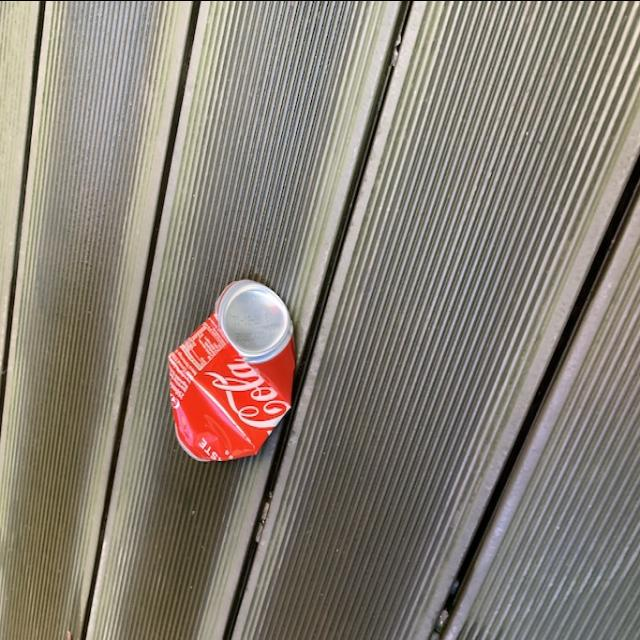litter: (168, 272, 308, 478)
